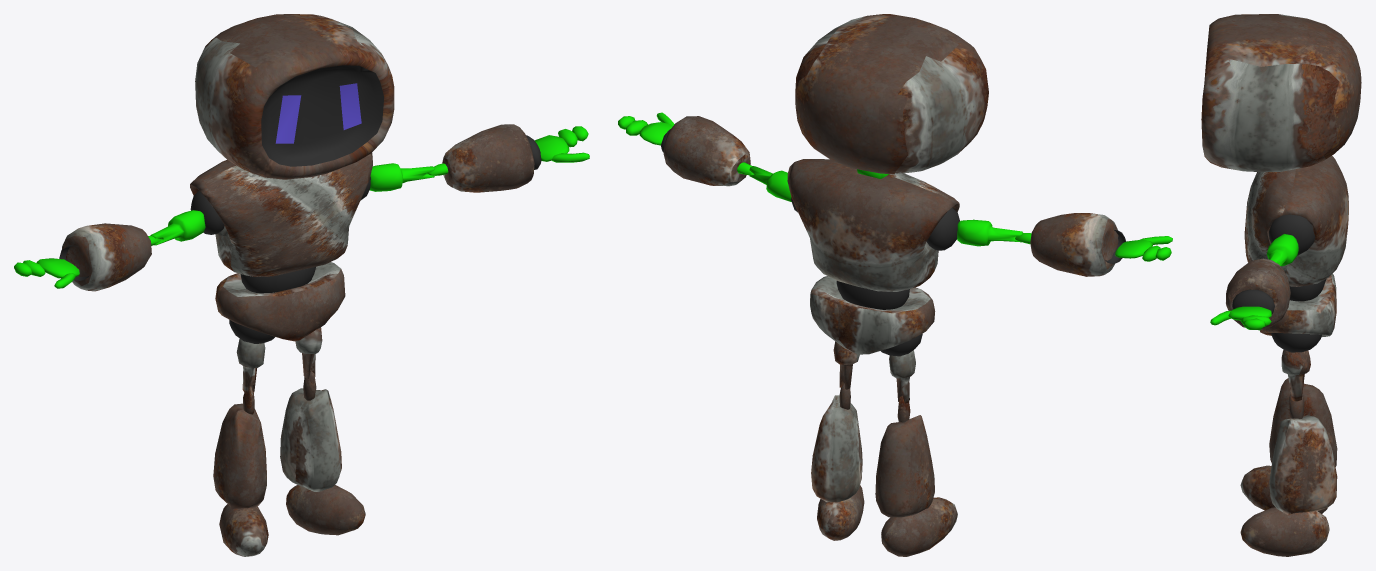
File: Avatar1.fbx
The picture shows the model from 3 angles, left to right: view 1: azimuth 30°, elevation 25°; view 2: azimuth 150°, elevation 25°; view 3: azimuth 270°, elevation 25°; orthographic projection. The views are drawn at different scales.
Parts seen in each view (by area): view 1: Ohne Schuhe.001; view 2: Ohne Schuhe.001; view 3: Ohne Schuhe.001.
Boxes of the visible parts, x1=… form: Ohne Schuhe.001: x1=14, y1=14, x2=589, y2=556; Ohne Schuhe.001: x1=618, y1=14, x2=1172, y2=556; Ohne Schuhe.001: x1=1201, y1=14, x2=1361, y2=556.
Size of the model in its own units: 697 by 607 by 174.
